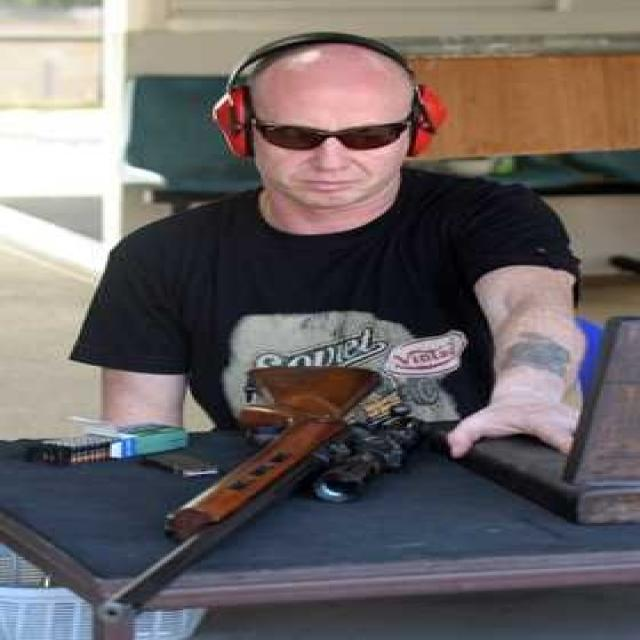heavyweapon: (81, 336, 431, 640)
